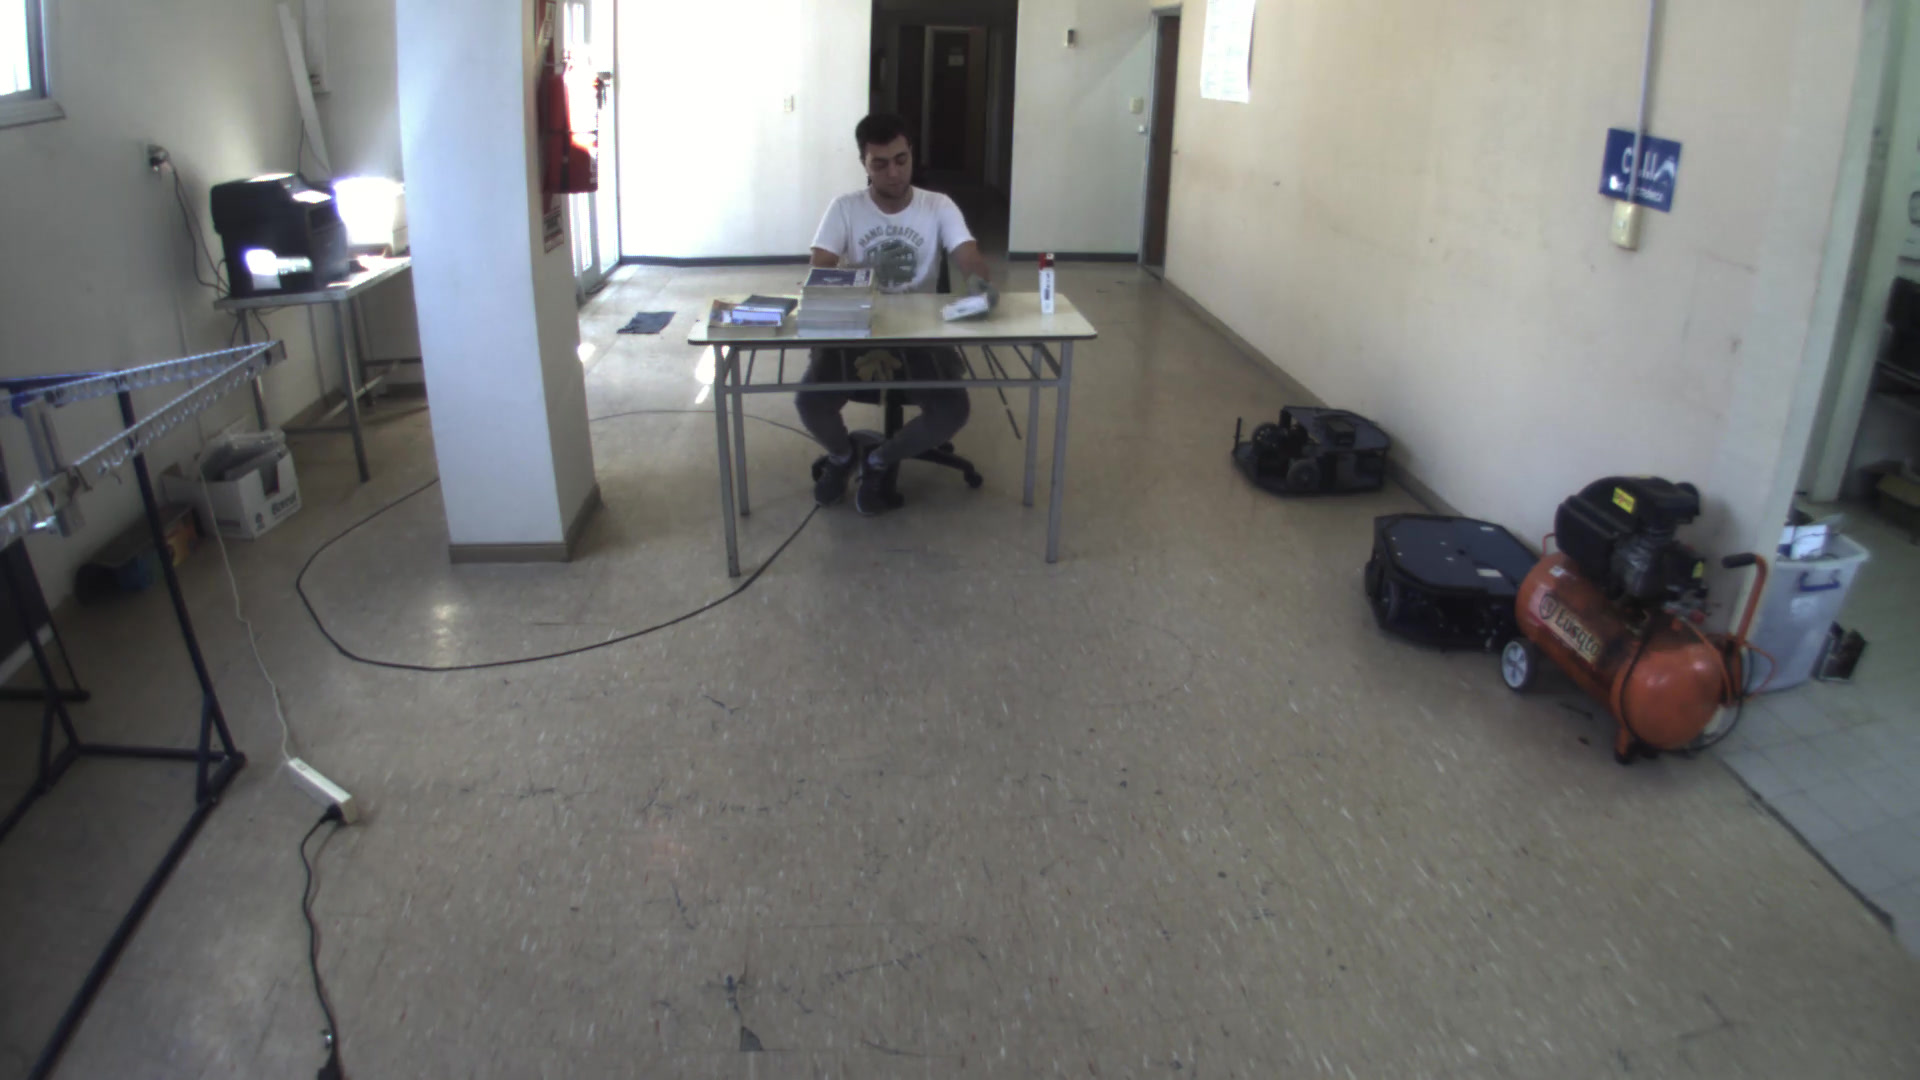hand: (844, 239, 916, 284), (963, 272, 1004, 320)
